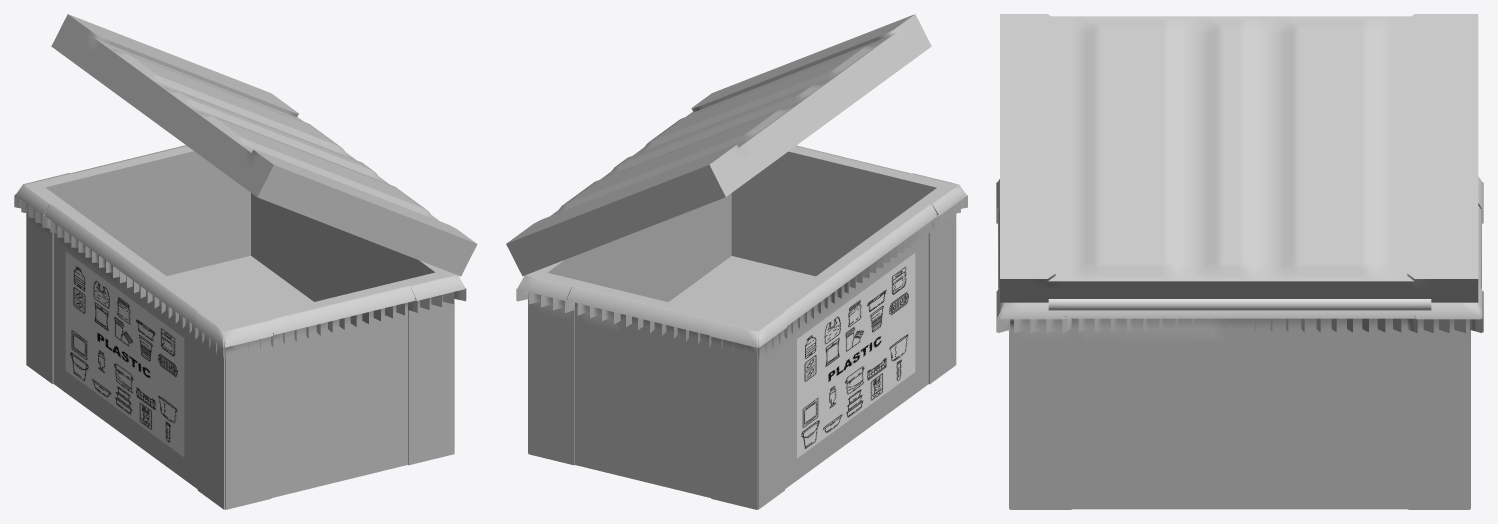
The model's file is tachos.fbx.
3 renders of one model, left to right at view 1: azimuth 30°, elevation 25°; view 2: azimuth 150°, elevation 25°; view 3: azimuth 270°, elevation 25°, orthographic. The views are drawn at different scales.
Visible parts, largest first — view 1: Cubo, Cubo_1, Plano; view 2: Cubo, Cubo_1, Plano; view 3: Cubo_1, Cubo, Cilindro.
Boxes of the visible parts, x1=… form: Cubo: x1=14, y1=145, x2=466, y2=509; Cubo_1: x1=51, y1=14, x2=477, y2=276; Plano: x1=65, y1=251, x2=184, y2=457; Cubo: x1=516, y1=145, x2=967, y2=509; Cubo_1: x1=506, y1=14, x2=931, y2=276; Plano: x1=797, y1=253, x2=915, y2=458; Cubo_1: x1=1000, y1=14, x2=1478, y2=302; Cubo: x1=996, y1=176, x2=1483, y2=509; Cilindro: x1=1048, y1=299, x2=1431, y2=310.
Size of the model in its own units: 224 by 282 by 319.
2 materials, 1 textured.
